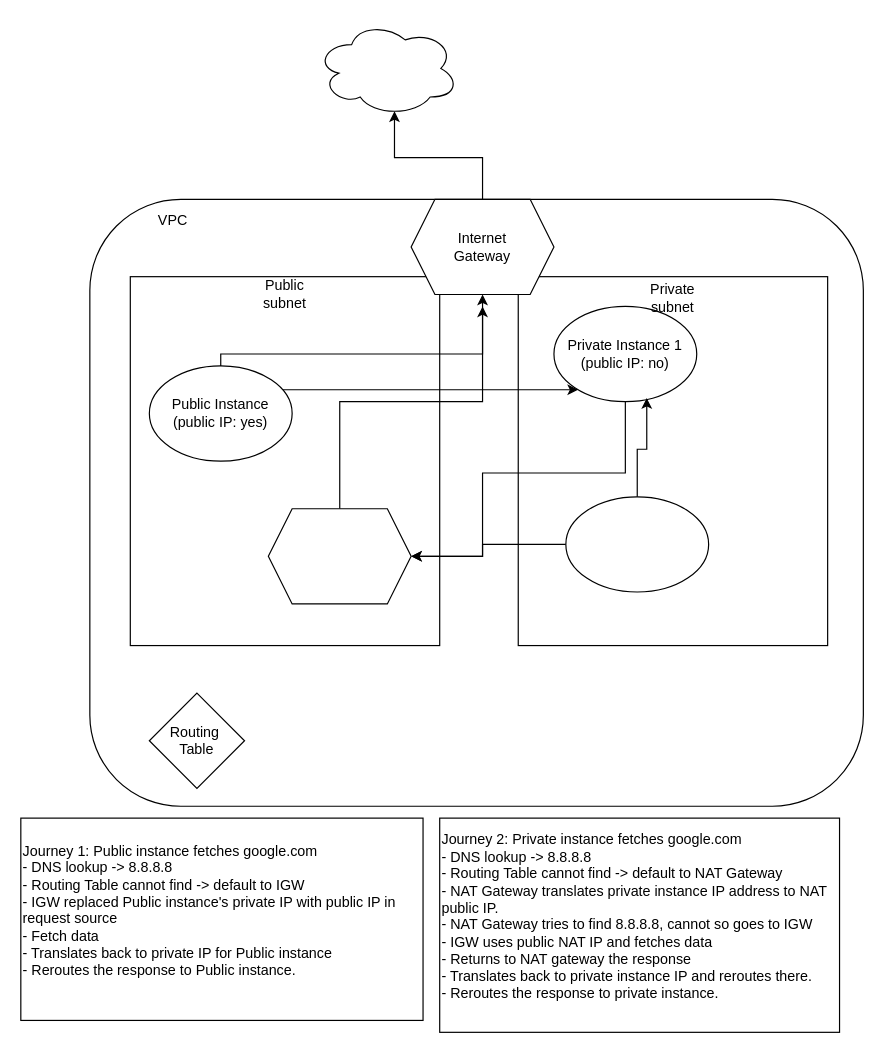
The diagram is 884 pixels wide and 1053 high, and some of its shapes have lost their labels. Here are the shapes that lost their labels. From the top down, the centre of each, then its label:
[387,68]: Internet
[339,556]: NAT Gateway (public IP: yes)
[637,544]: Private Instance 2 (public IP: no)
